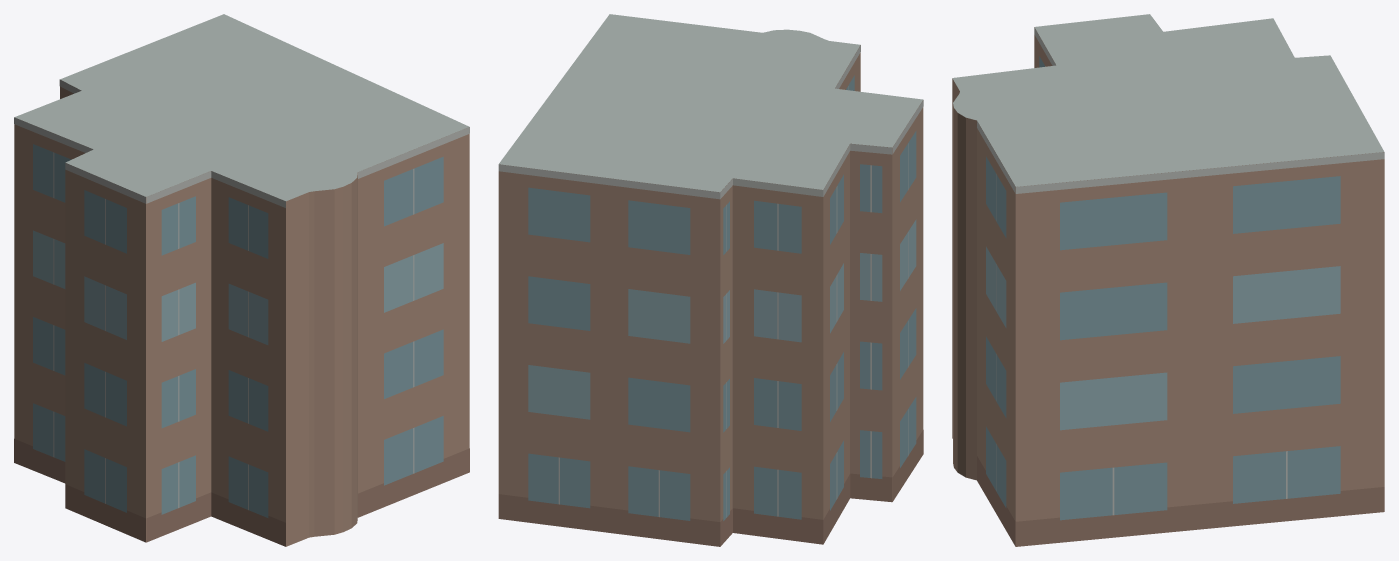
Rendered from survey-upis-32639890.glb.
3 views of the same model, side by side, from view 1: azimuth 30°, elevation 25°; view 2: azimuth 150°, elevation 25°; view 3: azimuth 270°, elevation 25° (orthographic). The views are drawn at different scales.
Visible parts, largest first — view 1: survey-upis-32639890.tmp; view 2: survey-upis-32639890.tmp; view 3: survey-upis-32639890.tmp.
Part boxes in pixels (x1,y1,x2,y2): survey-upis-32639890.tmp: (14,14,469,546); survey-upis-32639890.tmp: (498,14,923,546); survey-upis-32639890.tmp: (952,14,1384,546).
Size of the model in its own units: 12.57 by 12.2 by 13.28.
